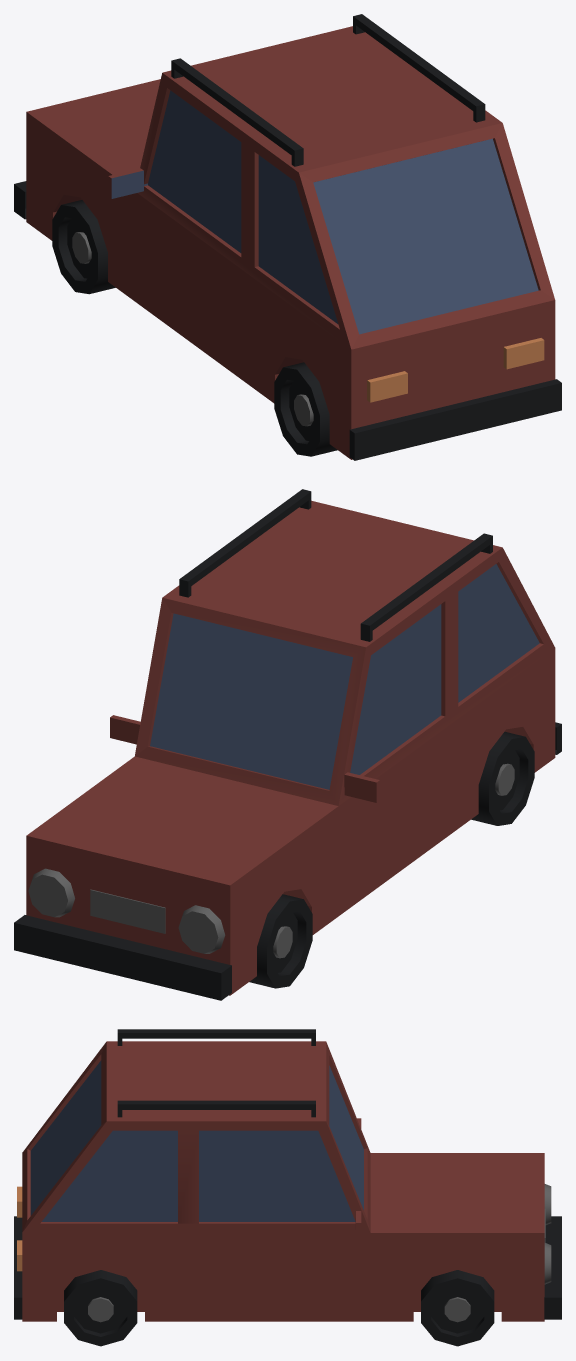
File: car.fbx
3 views of the same model, one above another, from view 1: azimuth 30°, elevation 25°; view 2: azimuth 150°, elevation 25°; view 3: azimuth 270°, elevation 25° (orthographic). The views are drawn at different scales.
Parts seen in each view (by area): view 1: Car 2.001; view 2: Car 2.001; view 3: Car 2.001.
Part boxes in pixels (<box>): Car 2.001: <box>14,14,561,460</box>; Car 2.001: <box>14,489,561,1000</box>; Car 2.001: <box>14,1029,561,1346</box>.
Size of the model in its own units: 199 by 210 by 440.
